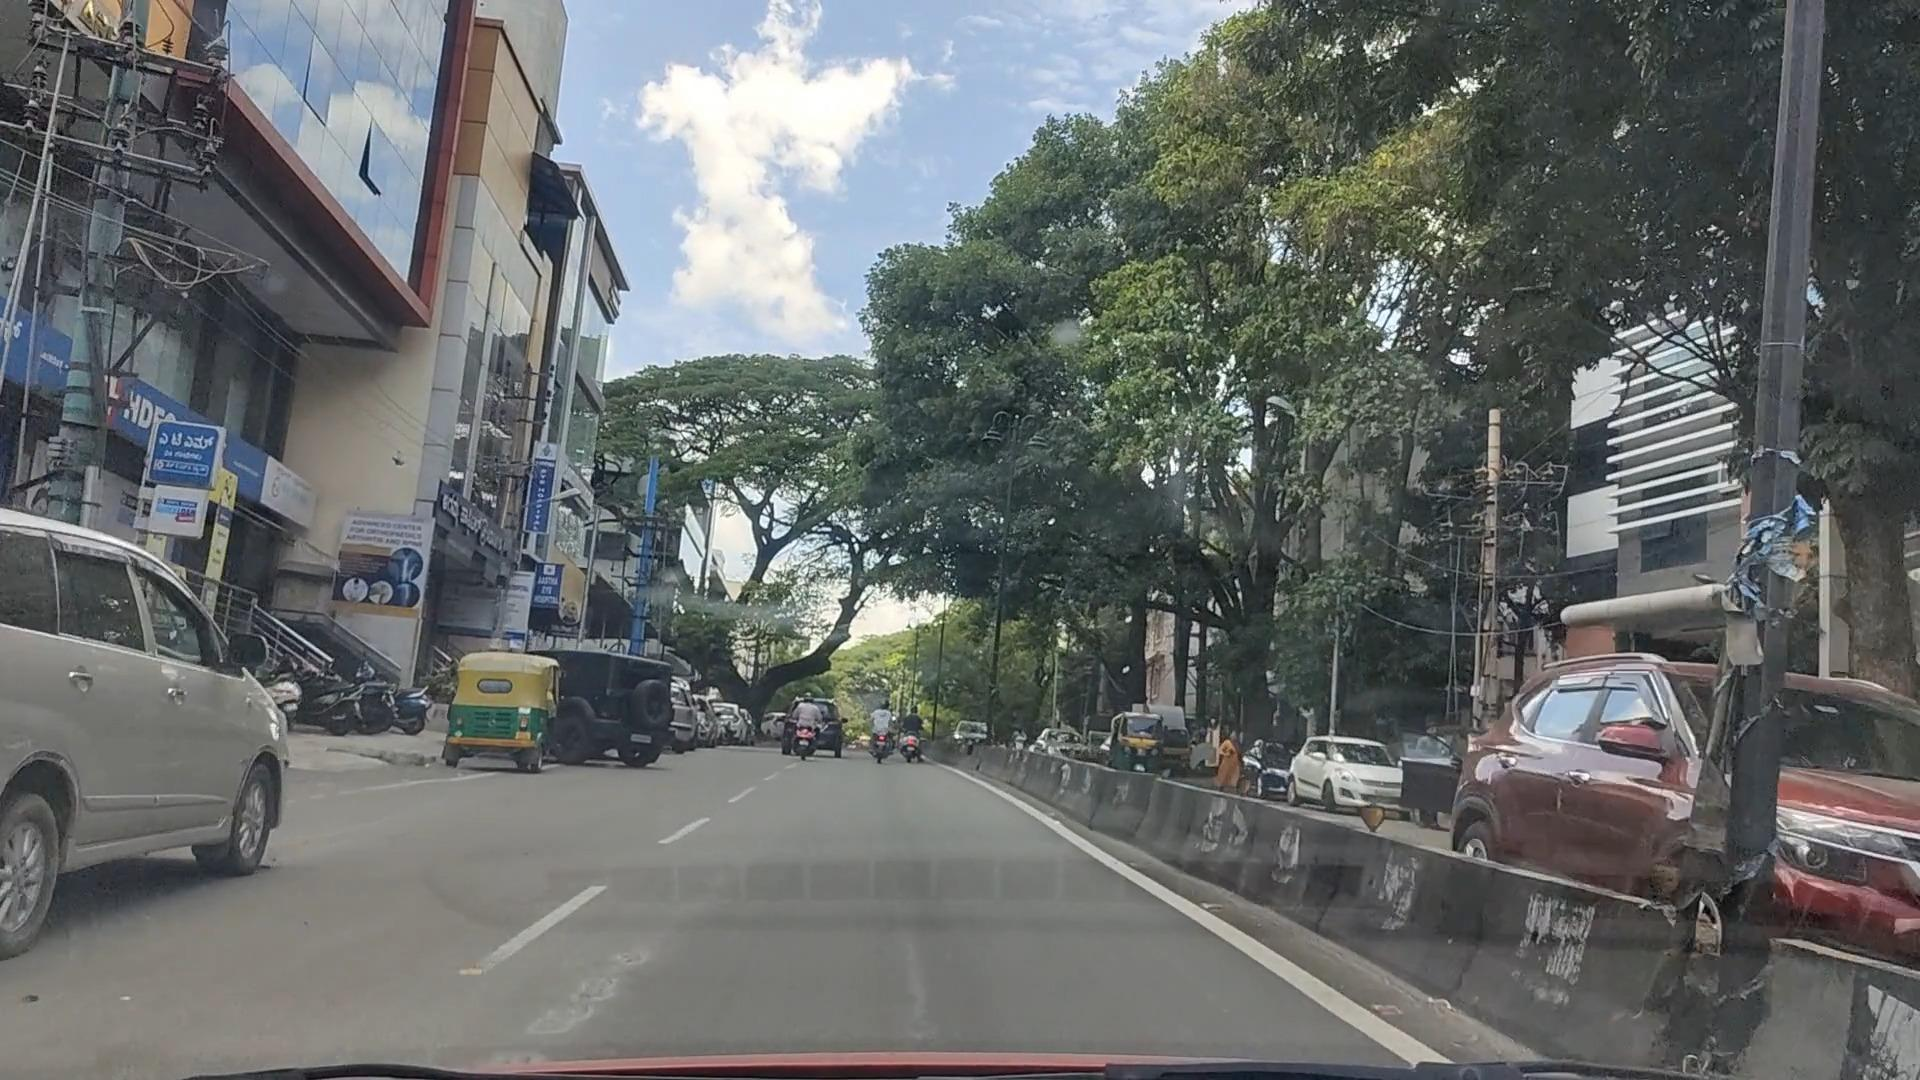RoadDamages: (513, 878, 691, 1048)
